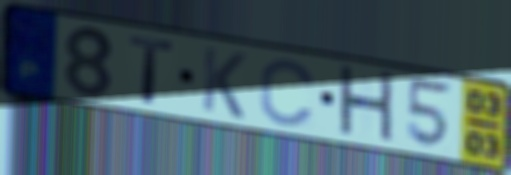5: (403, 74, 456, 152)
8: (63, 24, 116, 101)
C: (257, 56, 319, 129)
H: (336, 62, 398, 149)
K: (199, 44, 249, 123)
T: (127, 33, 178, 108)
